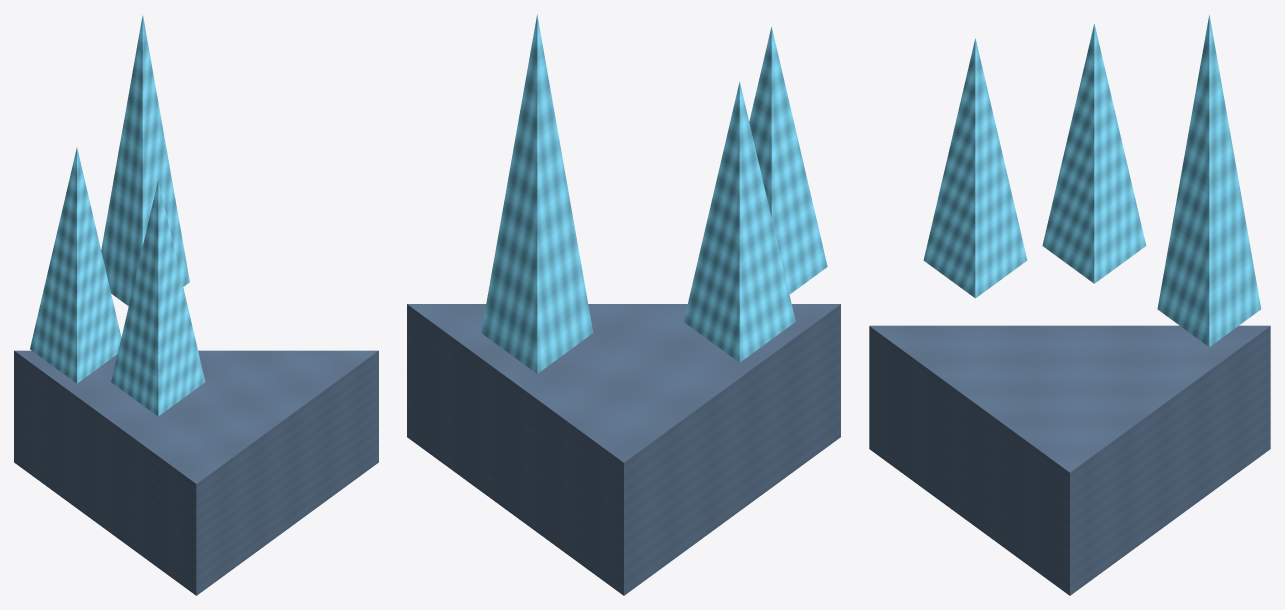
File: atlas100-s051-a12.lod2.glb
3 views of the same model, side by side, from view 1: azimuth 30°, elevation 25°; view 2: azimuth 150°, elevation 25°; view 3: azimuth 270°, elevation 25° (orthographic). The views are drawn at different scales.
Parts seen in each view (by area): view 1: atlas100-s051-a12:part-000, atlas100-s051-a12:part-002, atlas100-s051-a12:part-005, atlas100-s051-a12:part-003; view 2: atlas100-s051-a12:part-000, atlas100-s051-a12:part-003, atlas100-s051-a12:part-005, atlas100-s051-a12:part-002; view 3: atlas100-s051-a12:part-000, atlas100-s051-a12:part-003, atlas100-s051-a12:part-002, atlas100-s051-a12:part-005.
Part boxes in pixels (<box>): atlas100-s051-a12:part-000: <box>14,350,378,595</box>; atlas100-s051-a12:part-002: <box>111,180,205,416</box>; atlas100-s051-a12:part-005: <box>30,147,121,383</box>; atlas100-s051-a12:part-003: <box>101,14,189,305</box>; atlas100-s051-a12:part-000: <box>407,304,840,595</box>; atlas100-s051-a12:part-003: <box>481,14,593,373</box>; atlas100-s051-a12:part-005: <box>683,81,795,362</box>; atlas100-s051-a12:part-002: <box>749,27,827,294</box>; atlas100-s051-a12:part-000: <box>869,325,1270,595</box>; atlas100-s051-a12:part-003: <box>1157,15,1261,347</box>; atlas100-s051-a12:part-002: <box>923,38,1027,298</box>; atlas100-s051-a12:part-005: <box>1042,24,1146,283</box>.
Bounding box in the file's own units: 0.9996 × 1.35 × 1.
Materials: 2 (2 with a texture image).
